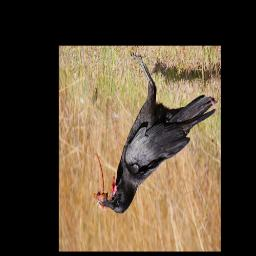Crow: (88, 53, 217, 219)
